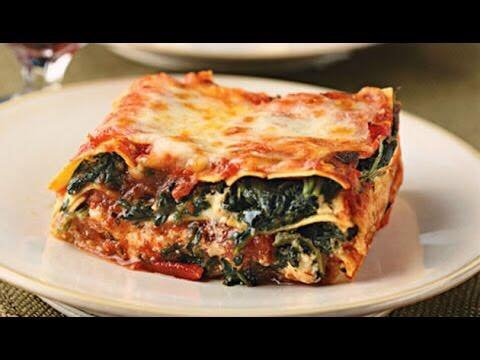curry: (1, 46, 461, 313)
sandwich: (47, 70, 403, 288)
